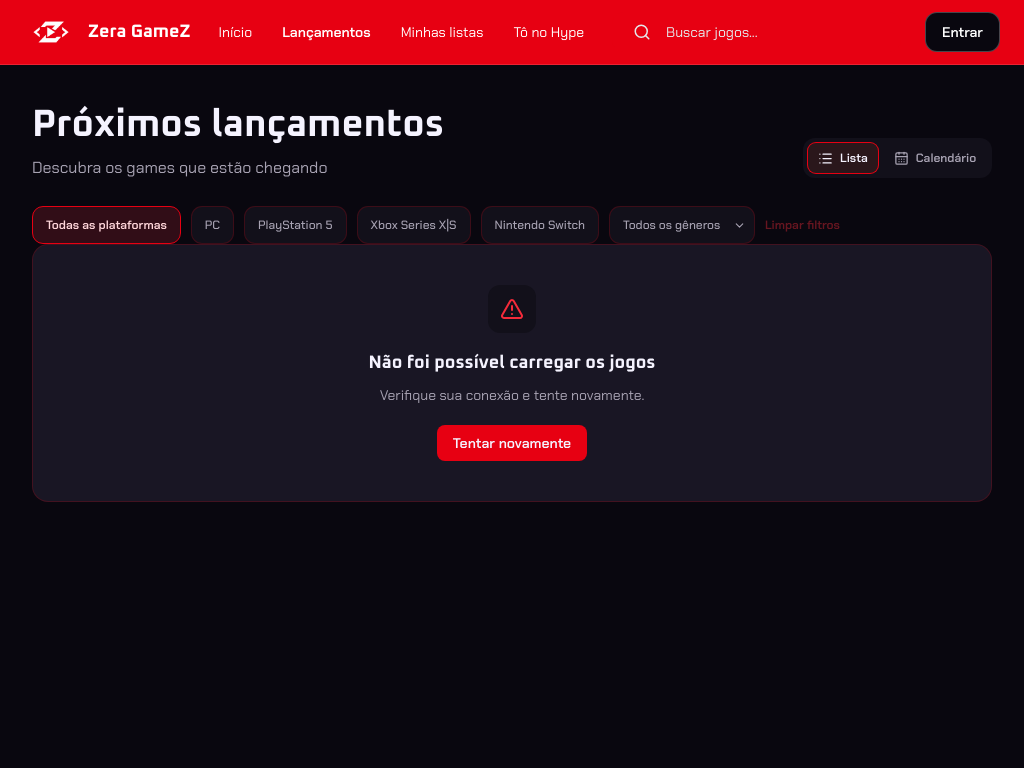
Test: Zera GameZ › shows an initial split-scan error and retries the exact failed window
The image size is (1024, 768).
Expected: the message shows "Não foi possível carregar os jogos", left=368, top=354, right=656, bottom=372
What coordinates should you click on to do the following:
click the button "Tentar novamente"
I would click on:
 (512, 443)
Its box is left=437, top=425, right=587, bottom=461.
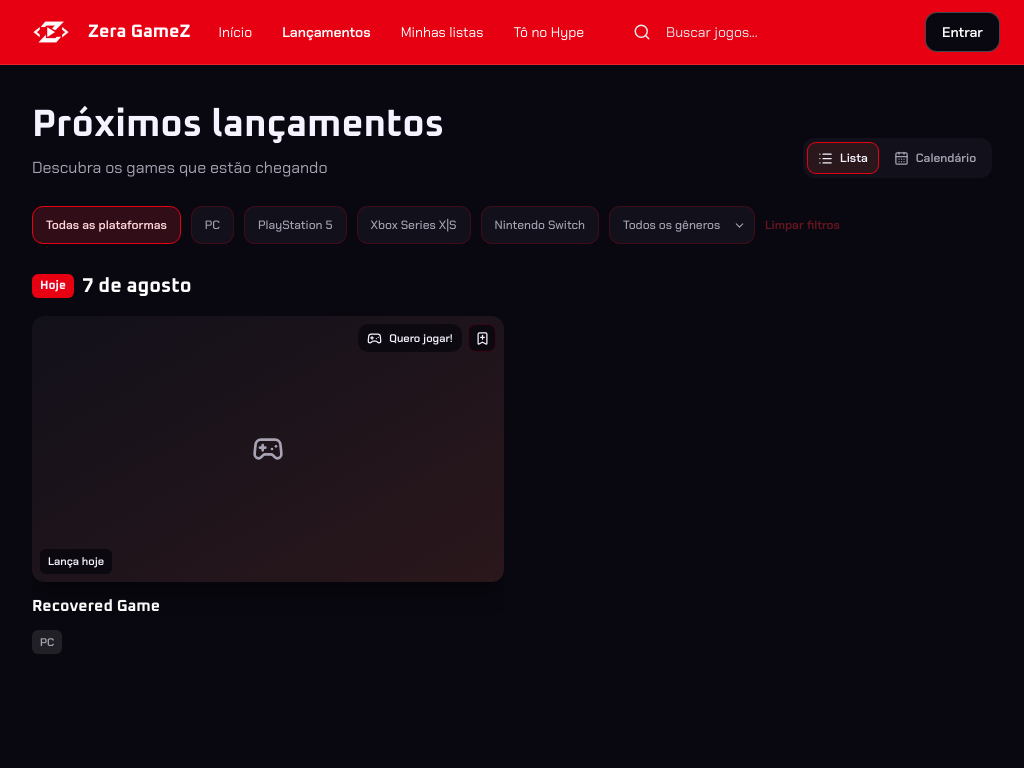
Expected: the number of links "Recovered Game" is 2
